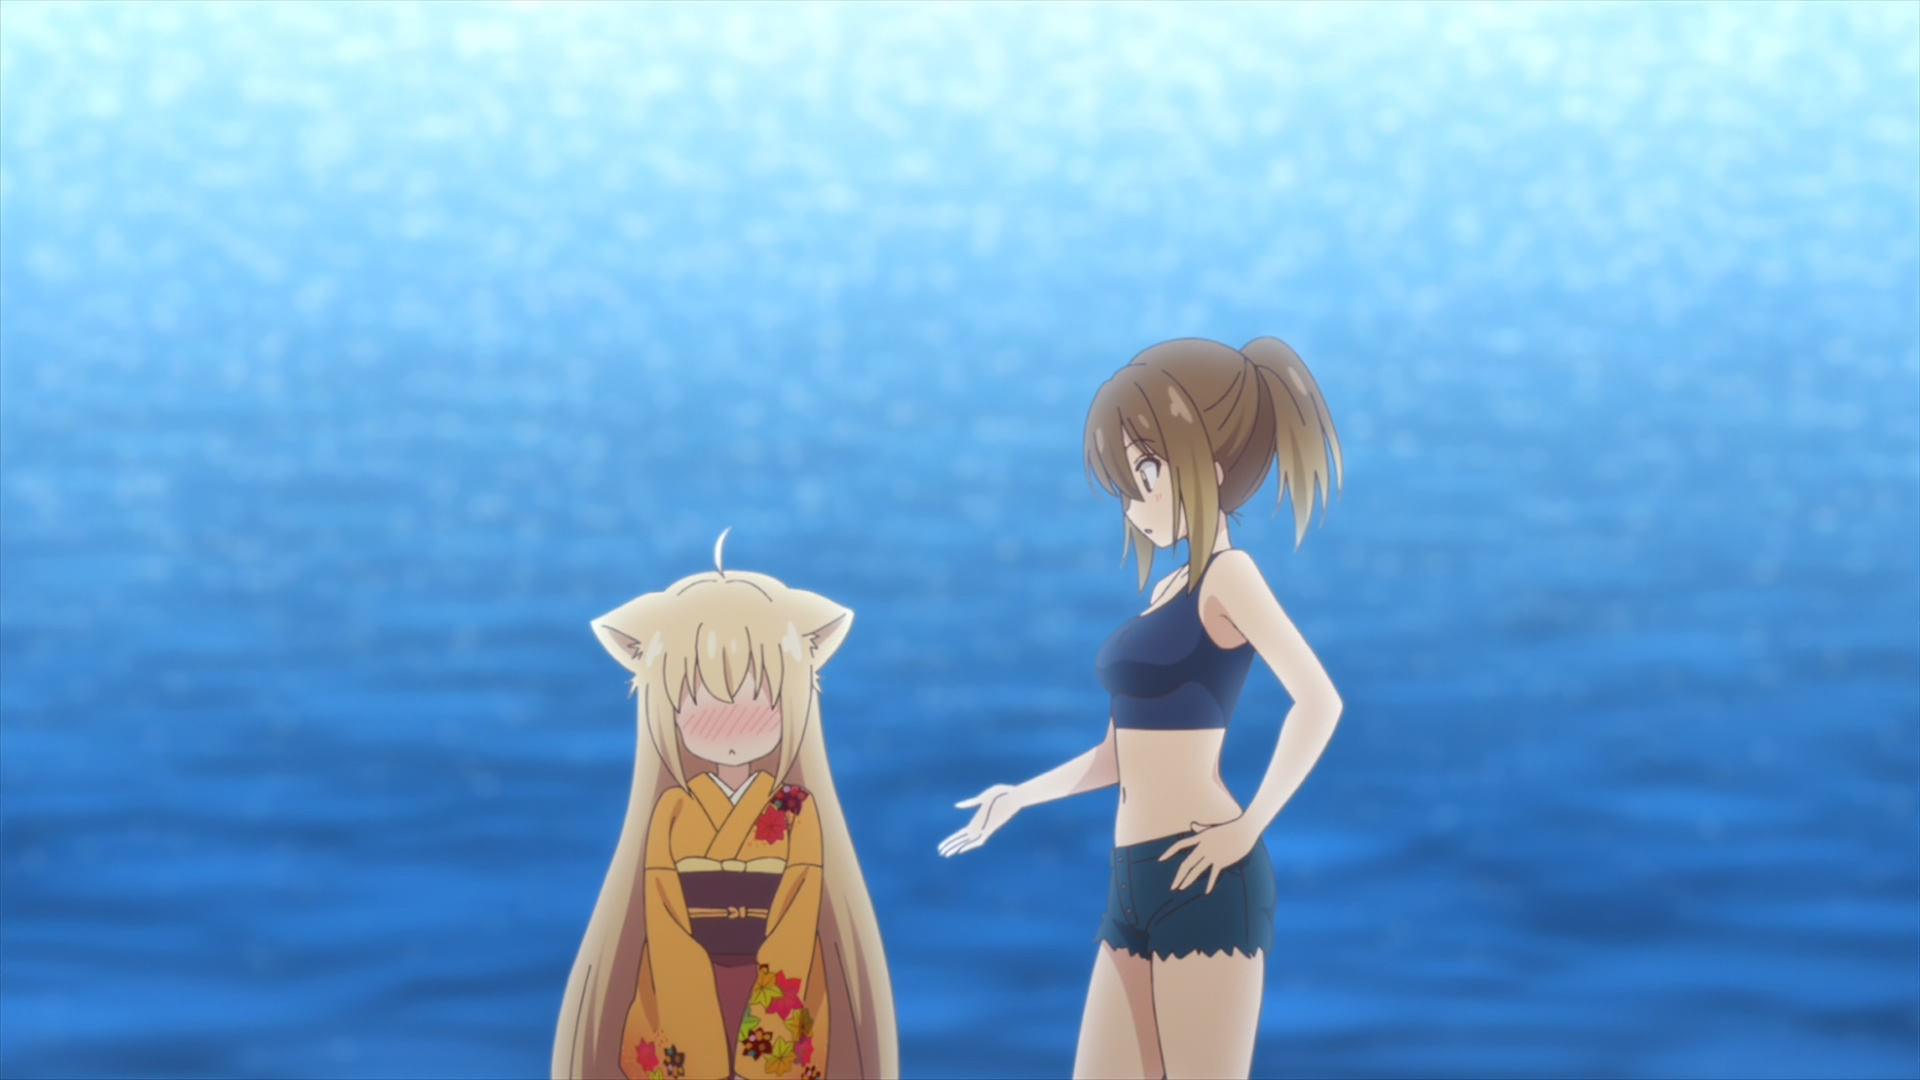其他: (935, 338, 1344, 1080)
柚: (550, 527, 898, 1080)
